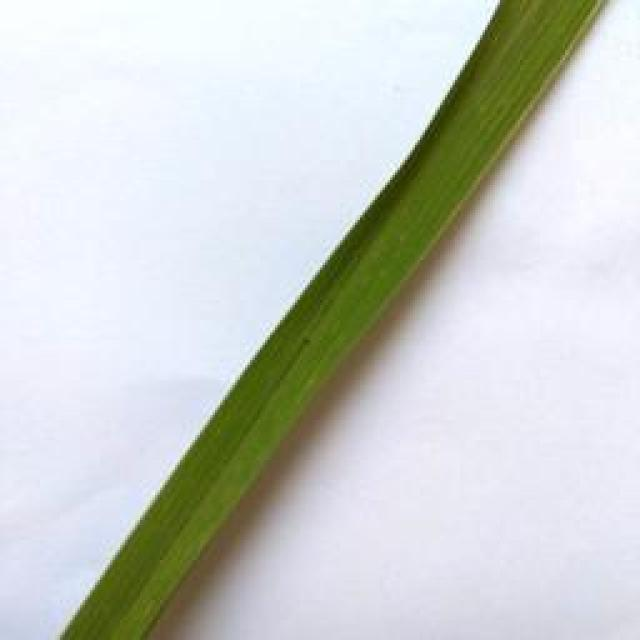Healthy-Plant: (54, 0, 605, 636)
